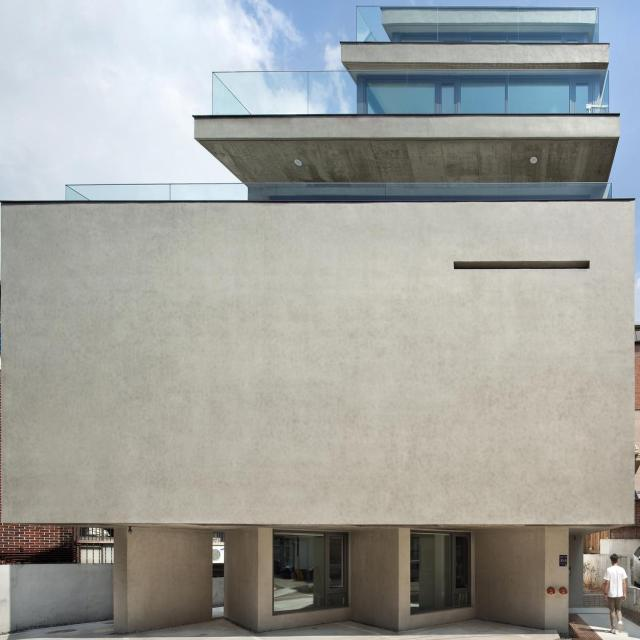Railing: (210, 70, 610, 116), (64, 181, 614, 202), (357, 4, 600, 44)
wall: (0, 4, 634, 637)
windows: (272, 530, 350, 616), (410, 531, 471, 615)
